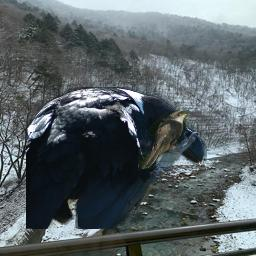Crow: (26, 87, 208, 229)
Cuckoo: (138, 110, 190, 171)
